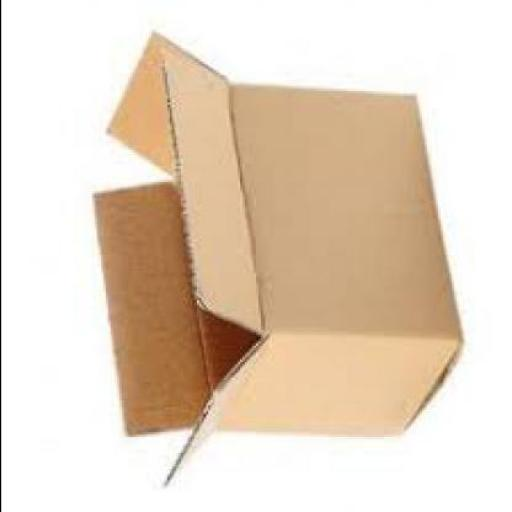cardboard: (89, 29, 460, 485)
